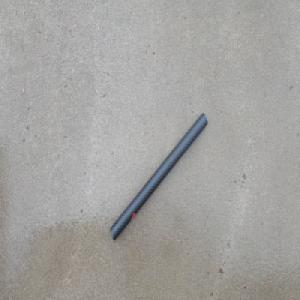LuggagePart: (109, 111, 207, 241)
